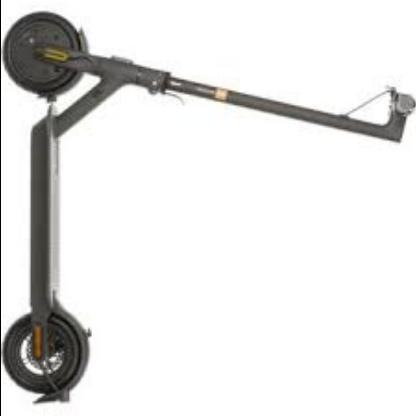bike: (1, 16, 415, 407)
